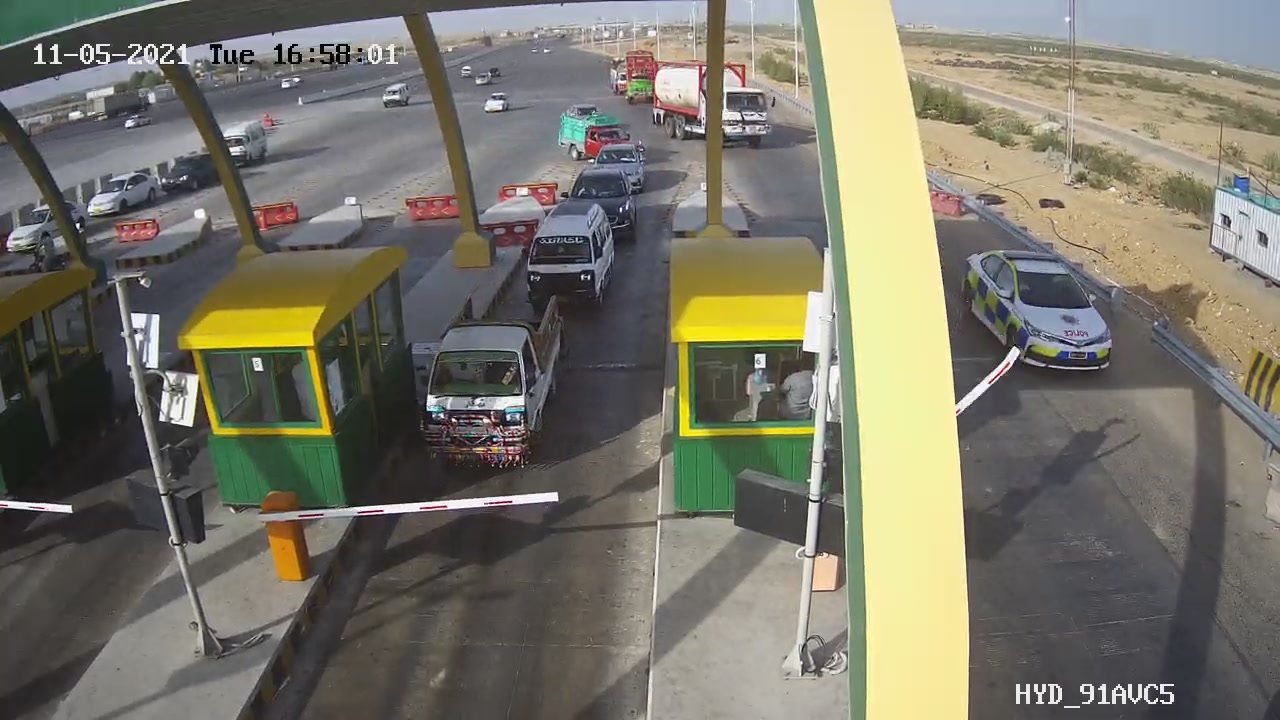F1: (420, 286, 568, 481), (503, 186, 627, 320)
